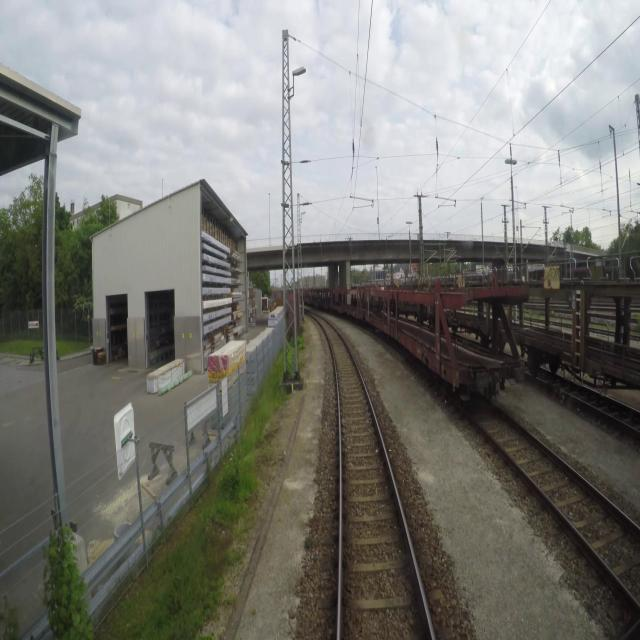rail-track: (318, 318, 431, 639), (467, 404, 640, 597), (542, 373, 640, 427)
